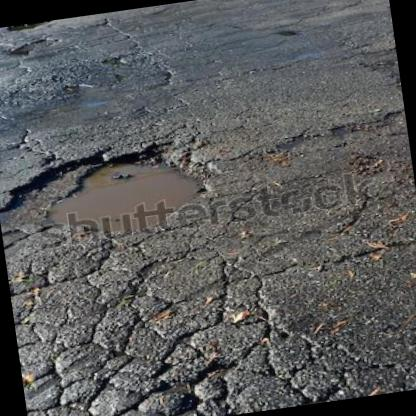pothole: (0, 126, 228, 250), (4, 34, 65, 57), (0, 20, 53, 34)
